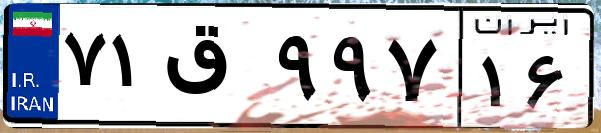1: (475, 38, 525, 113), (110, 28, 158, 98)
6: (525, 38, 570, 115)
7: (385, 28, 445, 110), (57, 26, 110, 100)
9: (270, 28, 330, 110), (330, 28, 385, 110)
ق: (158, 20, 270, 120)
